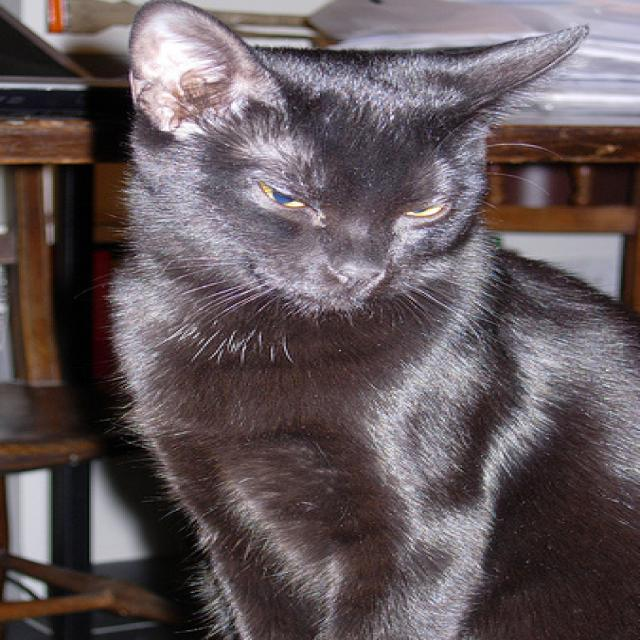Bombay: (108, 0, 640, 640)
